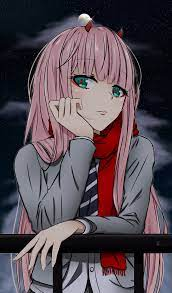zeroTwo: (28, 20, 149, 132)
